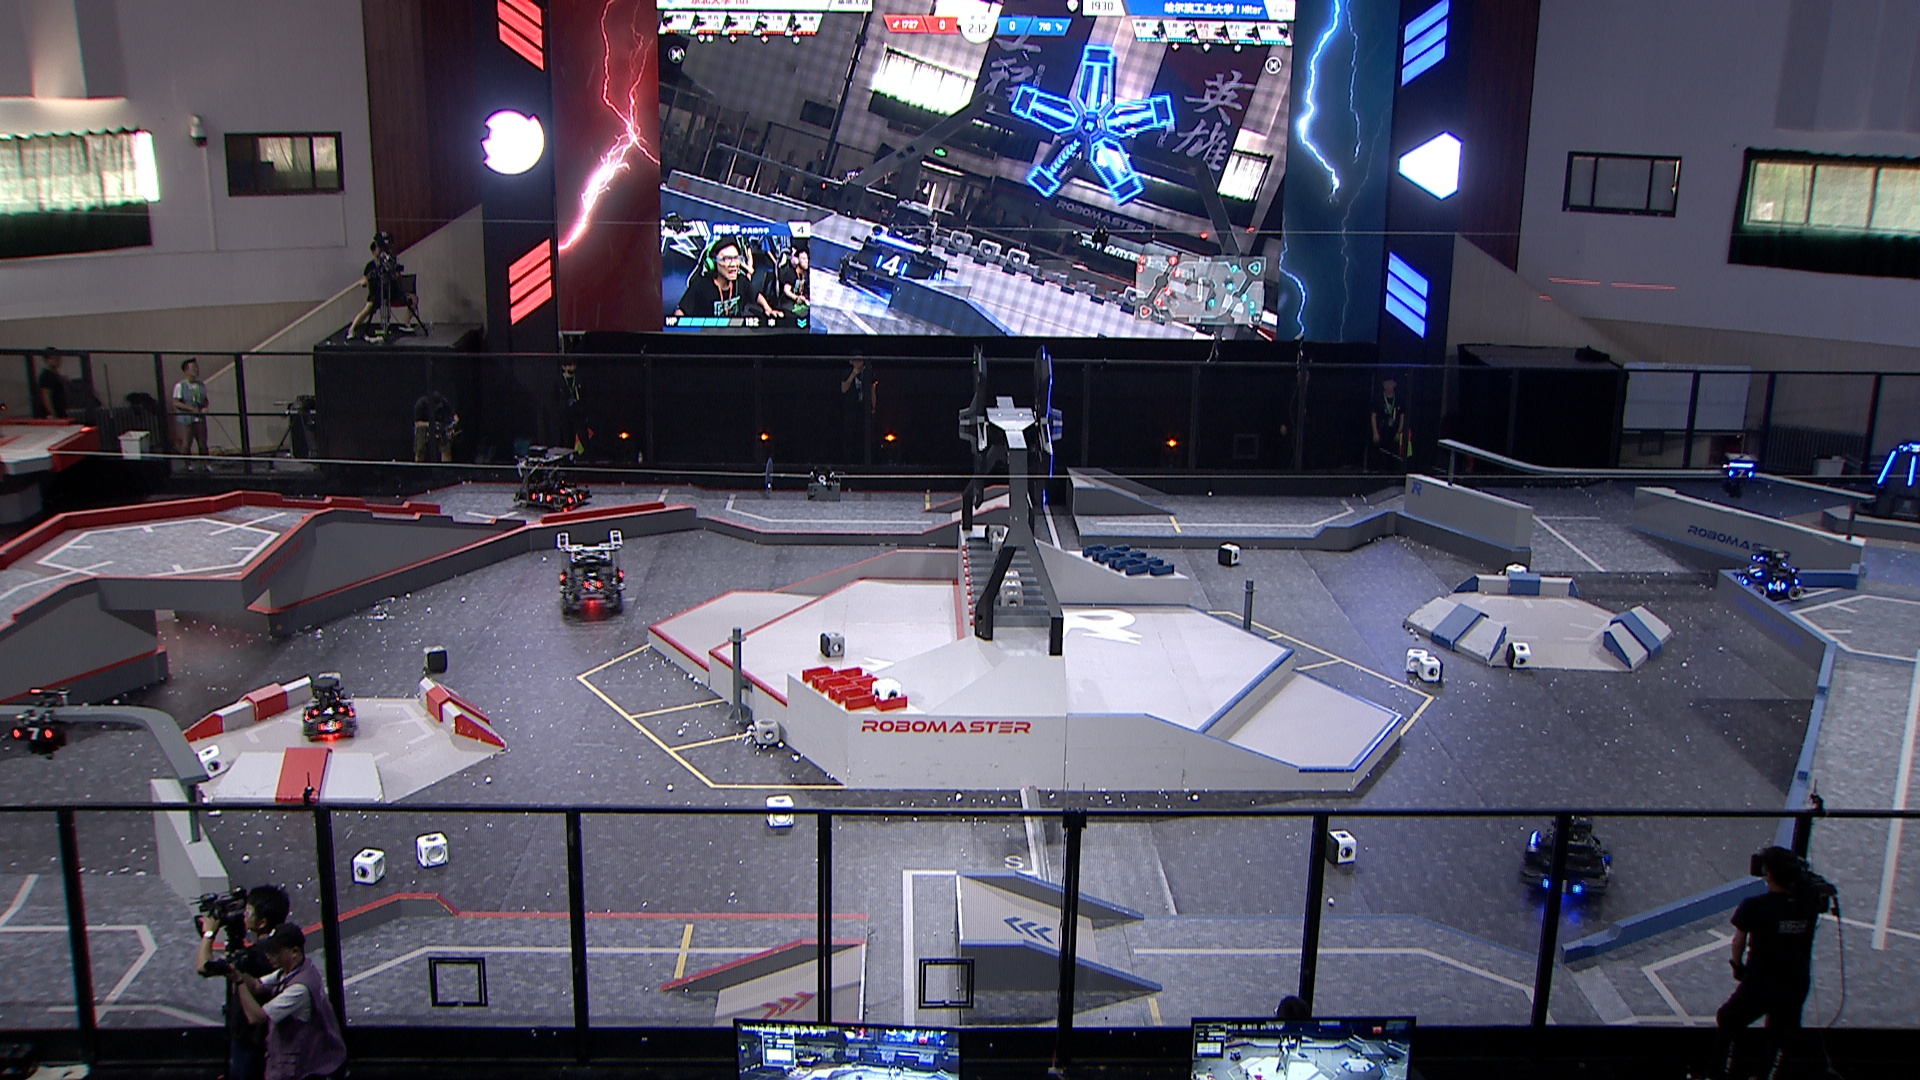armor: (1542, 877, 1585, 895), (1876, 451, 1898, 485), (12, 727, 54, 741), (310, 704, 345, 716), (1727, 467, 1755, 481), (1905, 456, 1917, 487), (319, 717, 342, 733), (1766, 578, 1788, 593), (1746, 564, 1764, 580), (582, 579, 603, 591), (531, 493, 553, 504), (1902, 444, 1920, 455), (564, 495, 585, 504), (1735, 574, 1750, 585), (556, 487, 578, 495)
base: (1855, 443, 1920, 524)
car: (1522, 811, 1614, 905), (553, 527, 629, 617), (514, 446, 593, 513), (299, 675, 361, 740), (1735, 550, 1808, 604)
ignore: (839, 199, 960, 299), (822, 171, 852, 199)
watcher: (12, 688, 71, 760), (1718, 452, 1759, 500)
